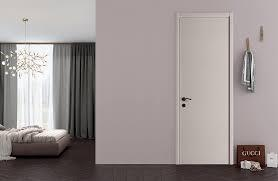bed: (0, 124, 70, 160)
door: (177, 11, 233, 163)
light: (0, 15, 48, 82)
